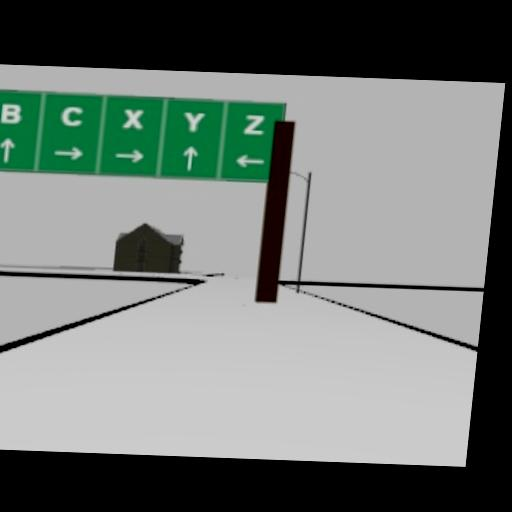B: (0, 104, 22, 125)
C: (60, 107, 84, 128)
Left: (233, 154, 264, 168)
Right: (113, 147, 144, 163), (52, 145, 85, 159)
Straight: (181, 145, 198, 170), (0, 136, 16, 162)
X: (121, 108, 145, 129)
Y: (181, 109, 205, 132)
Z: (241, 113, 265, 134)
